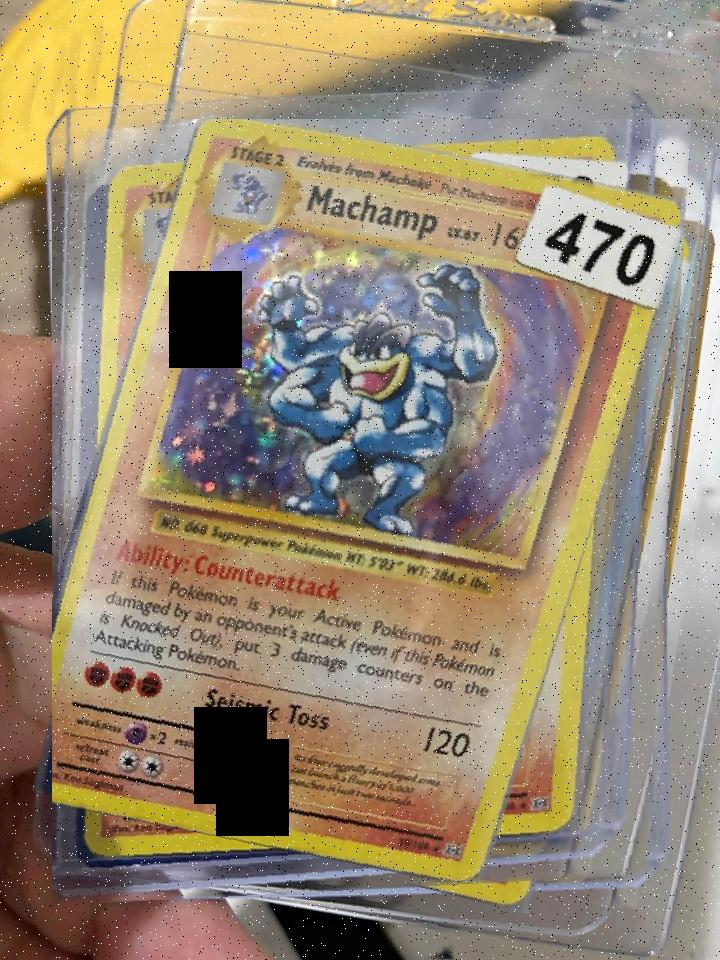card: (52, 119, 686, 884)
